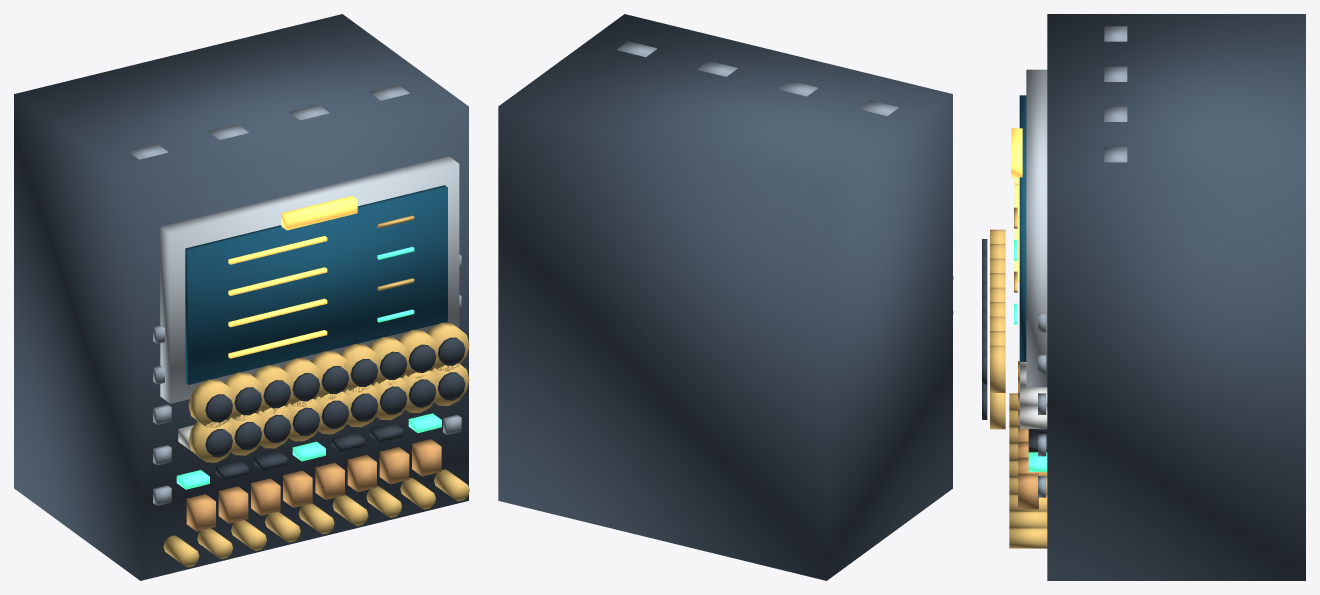
Rendered from 27_L88_CO2RegenerationControllerPLC.fbx.
The picture shows the model from 3 angles, left to right: view 1: azimuth 30°, elevation 25°; view 2: azimuth 150°, elevation 25°; view 3: azimuth 270°, elevation 25°; orthographic projection. The views are drawn at different scales.
Visible parts, largest first — view 1: L87_CO2RegenerationController_Part_0000, L87_CO2RegenerationController_Part_0002, L87_CO2RegenerationController_Part_0001, L87_CO2RegenerationController_Part_0009, L87_CO2RegenerationController_Part_0004, L87_CO2RegenerationController_Part_0008, L87_CO2RegenerationController_Part_0003, L87_CO2RegenerationController_Part_0007, L87_CO2RegenerationController_Part_0005, L87_CO2RegenerationController_Part_0010, L87_CO2RegenerationController_Part_0029, L87_CO2RegenerationController_Part_0011 (+32 smaller); view 2: L87_CO2RegenerationController_Part_0000, L87_CO2RegenerationController_Part_0008; view 3: L87_CO2RegenerationController_Part_0000, L87_CO2RegenerationController_Part_0001, L87_CO2RegenerationController_Part_0004, L87_CO2RegenerationController_Part_0008, L87_CO2RegenerationController_Part_0002, L87_CO2RegenerationController_Part_0009, L87_CO2RegenerationController_Part_0006, L87_CO2RegenerationController_Part_0045, L87_CO2RegenerationController_Part_0010, L87_CO2RegenerationController_Part_0027, L87_CO2RegenerationController_Part_0005, L87_CO2RegenerationController_Part_0003.
Boxes of the visible parts, x1,y1,x2,y2 form: L87_CO2RegenerationController_Part_0000: [14, 14, 468, 580]; L87_CO2RegenerationController_Part_0002: [185, 185, 447, 384]; L87_CO2RegenerationController_Part_0001: [160, 156, 459, 403]; L87_CO2RegenerationController_Part_0009: [186, 439, 441, 531]; L87_CO2RegenerationController_Part_0004: [163, 215, 469, 567]; L87_CO2RegenerationController_Part_0008: [128, 85, 461, 505]; L87_CO2RegenerationController_Part_0003: [228, 236, 327, 358]; L87_CO2RegenerationController_Part_0007: [215, 423, 403, 480]; L87_CO2RegenerationController_Part_0005: [176, 246, 441, 489]; L87_CO2RegenerationController_Part_0010: [281, 196, 357, 230]; L87_CO2RegenerationController_Part_0029: [188, 379, 235, 427]; L87_CO2RegenerationController_Part_0011: [188, 420, 235, 462]; L87_CO2RegenerationController_Part_0000: [498, 14, 952, 580]; L87_CO2RegenerationController_Part_0008: [617, 41, 898, 115]; L87_CO2RegenerationController_Part_0000: [1047, 14, 1305, 580]; L87_CO2RegenerationController_Part_0001: [1026, 69, 1047, 387]; L87_CO2RegenerationController_Part_0004: [1009, 207, 1047, 548]; L87_CO2RegenerationController_Part_0008: [1038, 26, 1127, 497]; L87_CO2RegenerationController_Part_0002: [1019, 95, 1026, 361]; L87_CO2RegenerationController_Part_0009: [1018, 361, 1038, 509]; L87_CO2RegenerationController_Part_0006: [1020, 362, 1047, 428]; L87_CO2RegenerationController_Part_0045: [990, 345, 1005, 392]; L87_CO2RegenerationController_Part_0010: [1011, 128, 1022, 177]; L87_CO2RegenerationController_Part_0027: [990, 393, 1005, 429]; L87_CO2RegenerationController_Part_0005: [1014, 239, 1047, 471]; L87_CO2RegenerationController_Part_0003: [1014, 177, 1019, 281].
Size of the model in its own units: 1.04 by 1.2 by 0.8688.
